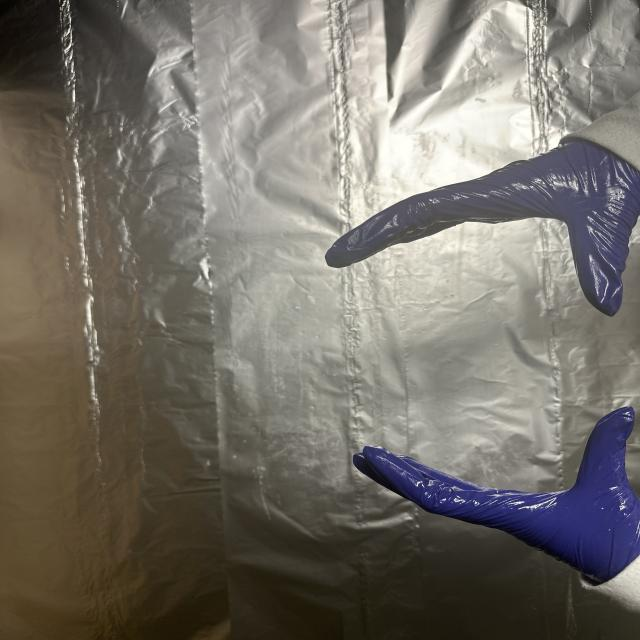gloves_contaminated: (326, 142, 640, 315), (354, 407, 640, 582)
